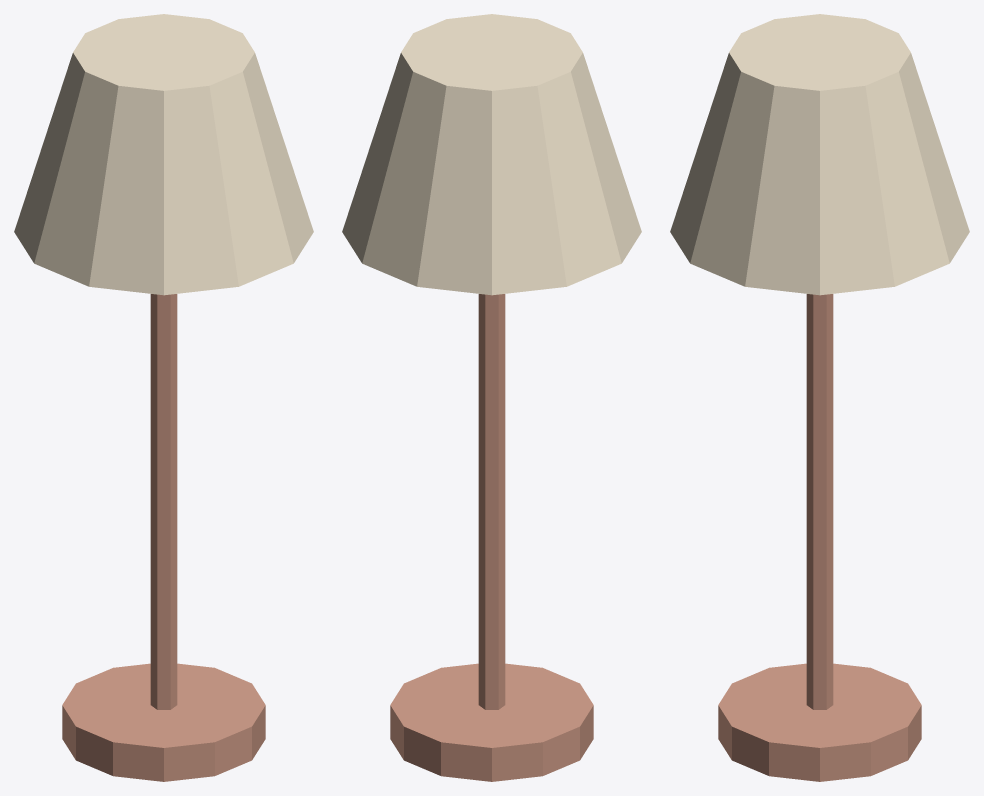
The picture shows the model from 3 angles, left to right: view 1: azimuth 30°, elevation 25°; view 2: azimuth 150°, elevation 25°; view 3: azimuth 270°, elevation 25°; orthographic projection.
Visible parts, largest first — view 1: Lamp shade, Lamp foot, Lamp pole; view 2: Lamp shade, Lamp foot, Lamp pole; view 3: Lamp shade, Lamp foot, Lamp pole.
Boxes of the visible parts, <box> form: Lamp shade: <box>14,14,313,295</box>; Lamp foot: <box>62,663,265,781</box>; Lamp pole: <box>150,294,177,709</box>; Lamp shade: <box>342,14,641,295</box>; Lamp foot: <box>390,663,593,781</box>; Lamp pole: <box>478,294,505,709</box>; Lamp shade: <box>670,14,969,295</box>; Lamp foot: <box>718,663,921,781</box>; Lamp pole: <box>806,294,833,709</box>.
Size of the model in its own units: 0.56 by 1.42 by 0.56.
1 material, 1 textured.
